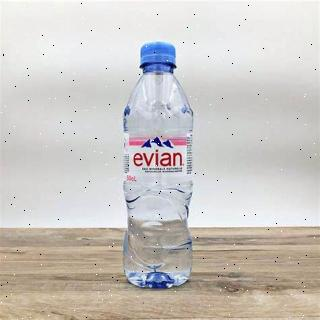Plastic-bottle: (117, 37, 202, 291)
